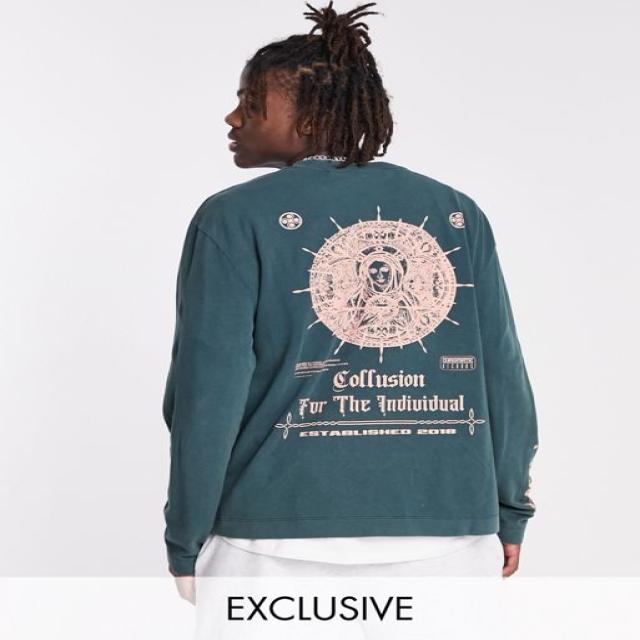tshirt: (159, 156, 542, 568)
